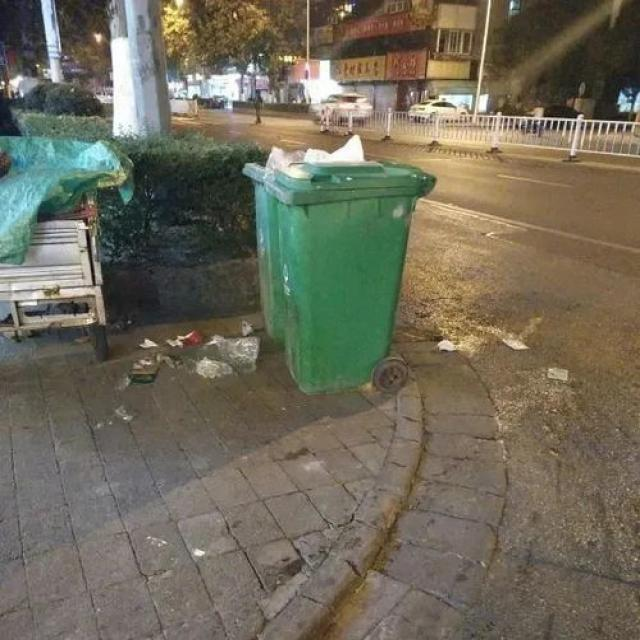garbage: (118, 320, 258, 384)
overflow: (241, 135, 434, 394)
